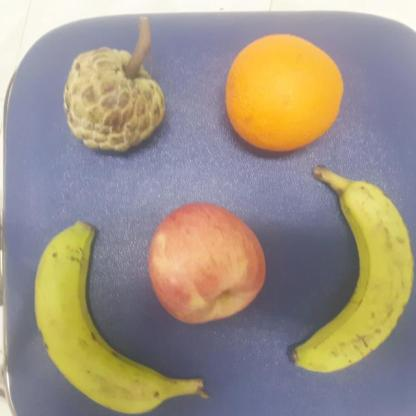annona: (60, 39, 174, 151)
apple: (147, 199, 270, 326)
banana: (34, 218, 212, 416), (286, 165, 416, 375)
orange: (222, 30, 348, 152)
